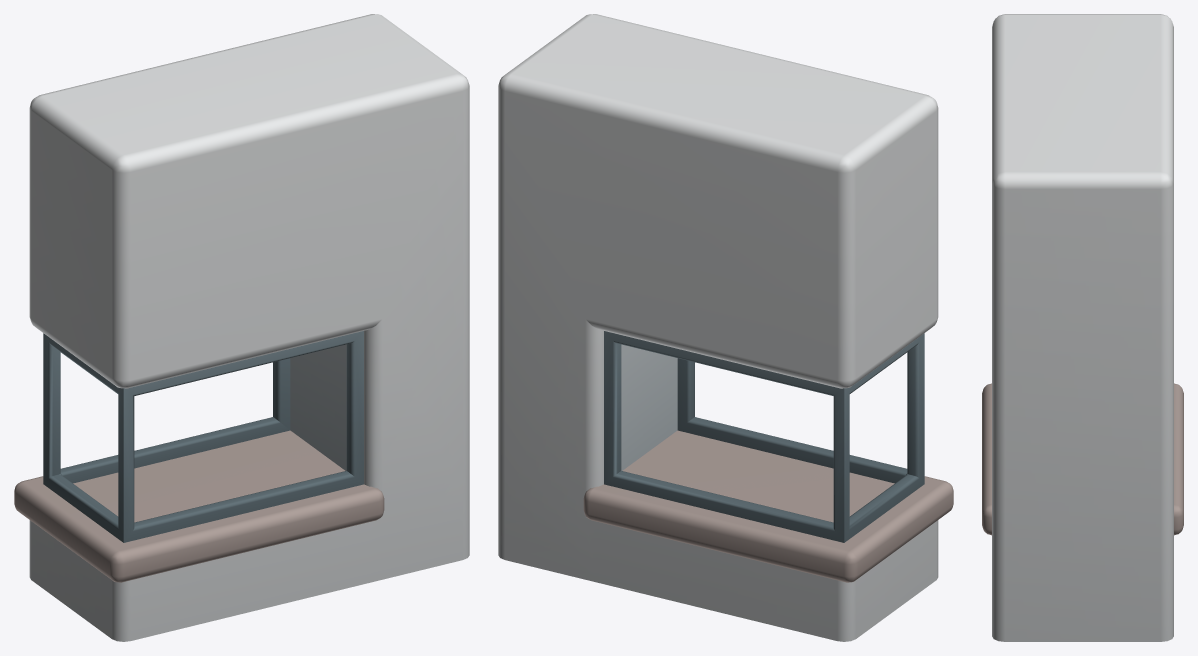
File: Fireplace_14.glb
3 views of the same model, side by side, from view 1: azimuth 30°, elevation 25°; view 2: azimuth 150°, elevation 25°; view 3: azimuth 270°, elevation 25° (orthographic). The views are drawn at different scales.
Parts seen in each view (by area): view 1: Fireplace_14; view 2: Fireplace_14; view 3: Fireplace_14.
Boxes of the visible parts, x1,y1,x2,y2 form: Fireplace_14: (14, 14, 469, 641); Fireplace_14: (498, 14, 953, 641); Fireplace_14: (982, 14, 1183, 641).
Bounding box in the file's own units: 1.23 × 1.55 × 0.61.
Materials: 1 (1 with a texture image).
